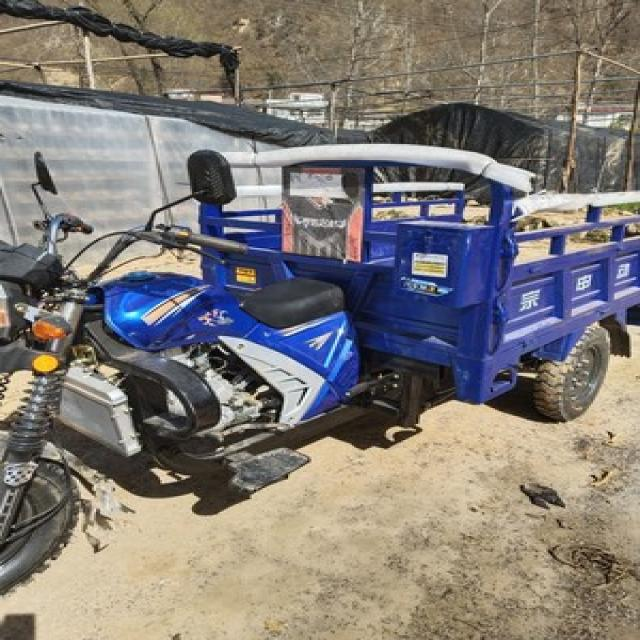tricycle: (0, 142, 638, 590)
